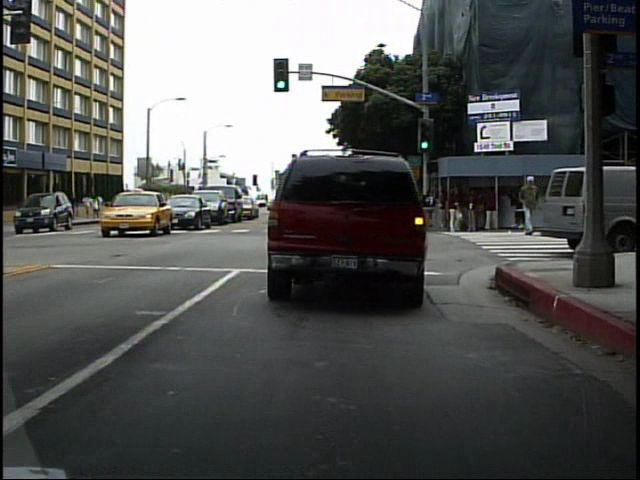person: (516, 172, 540, 239), (24, 194, 42, 230)
